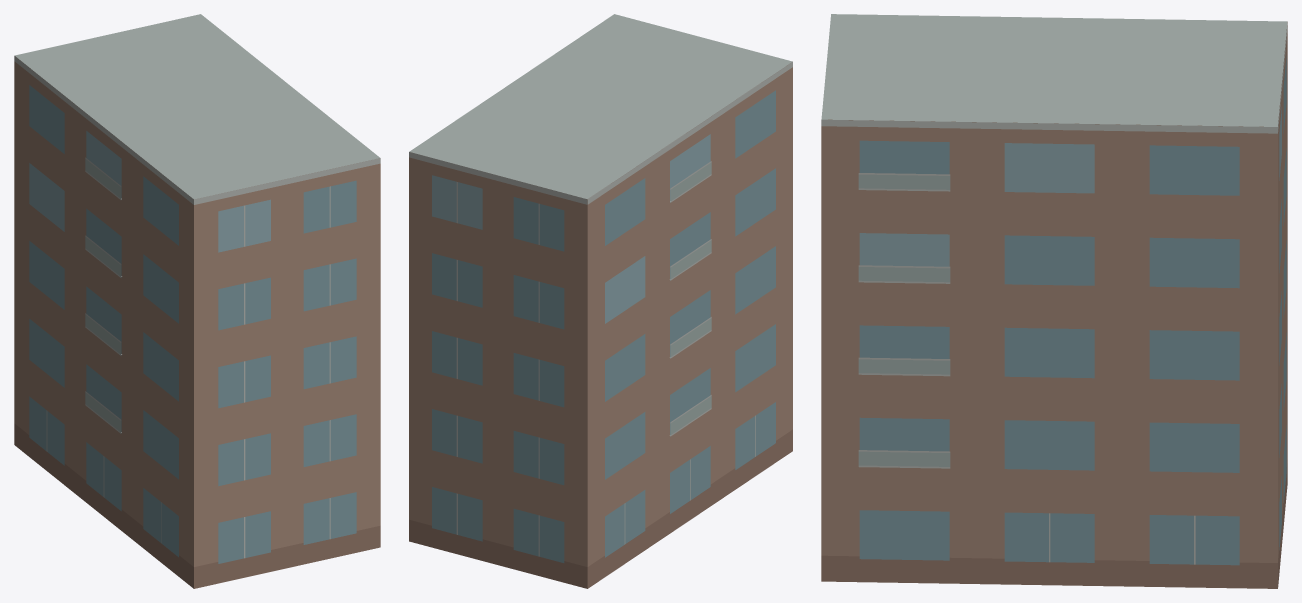
Rendered from survey-upis-32735736.glb.
3 renders of one model, left to right at view 1: azimuth 30°, elevation 25°; view 2: azimuth 150°, elevation 25°; view 3: azimuth 270°, elevation 25°, orthographic. The views are drawn at different scales.
Parts seen in each view (by area): view 1: survey-upis-32735736.tmp; view 2: survey-upis-32735736.tmp; view 3: survey-upis-32735736.tmp.
Boxes of the visible parts, x1,y1,x2,y2 form: survey-upis-32735736.tmp: [14, 14, 380, 588]; survey-upis-32735736.tmp: [409, 14, 792, 588]; survey-upis-32735736.tmp: [821, 14, 1287, 588].
Bounding box in the file's own units: 8.93 × 17 × 15.56.
